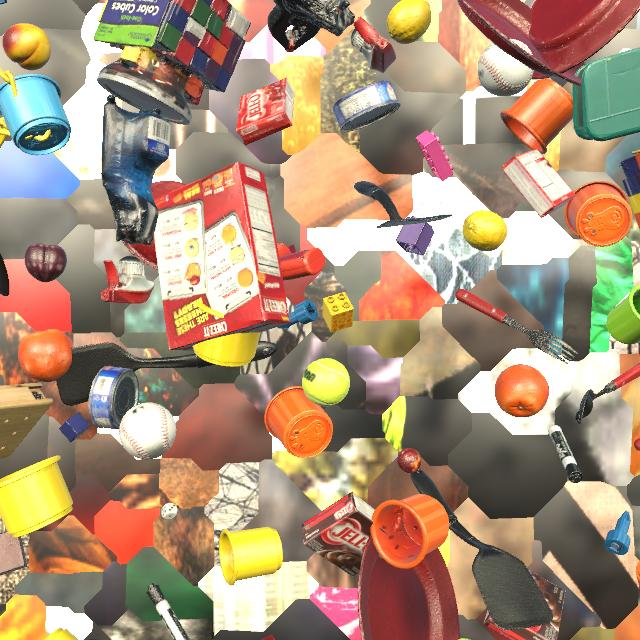ycb_003_cracker_box: (154, 162, 291, 350)
ycb_007_tuna_fish_can: (333, 80, 401, 132), (88, 366, 139, 430)
ycb_008_pudding_box: (301, 492, 388, 577), (483, 571, 565, 640)
ycb_009_gelatin_box: (501, 149, 575, 218), (236, 78, 295, 146)
ycb_014_lemon: (386, 0, 432, 44), (463, 210, 507, 251)
ycb_015_peach: (2, 23, 51, 70)
ycb_017_orange: (494, 364, 549, 418), (18, 329, 74, 382)
ycb_018_plum: (24, 243, 67, 282)
